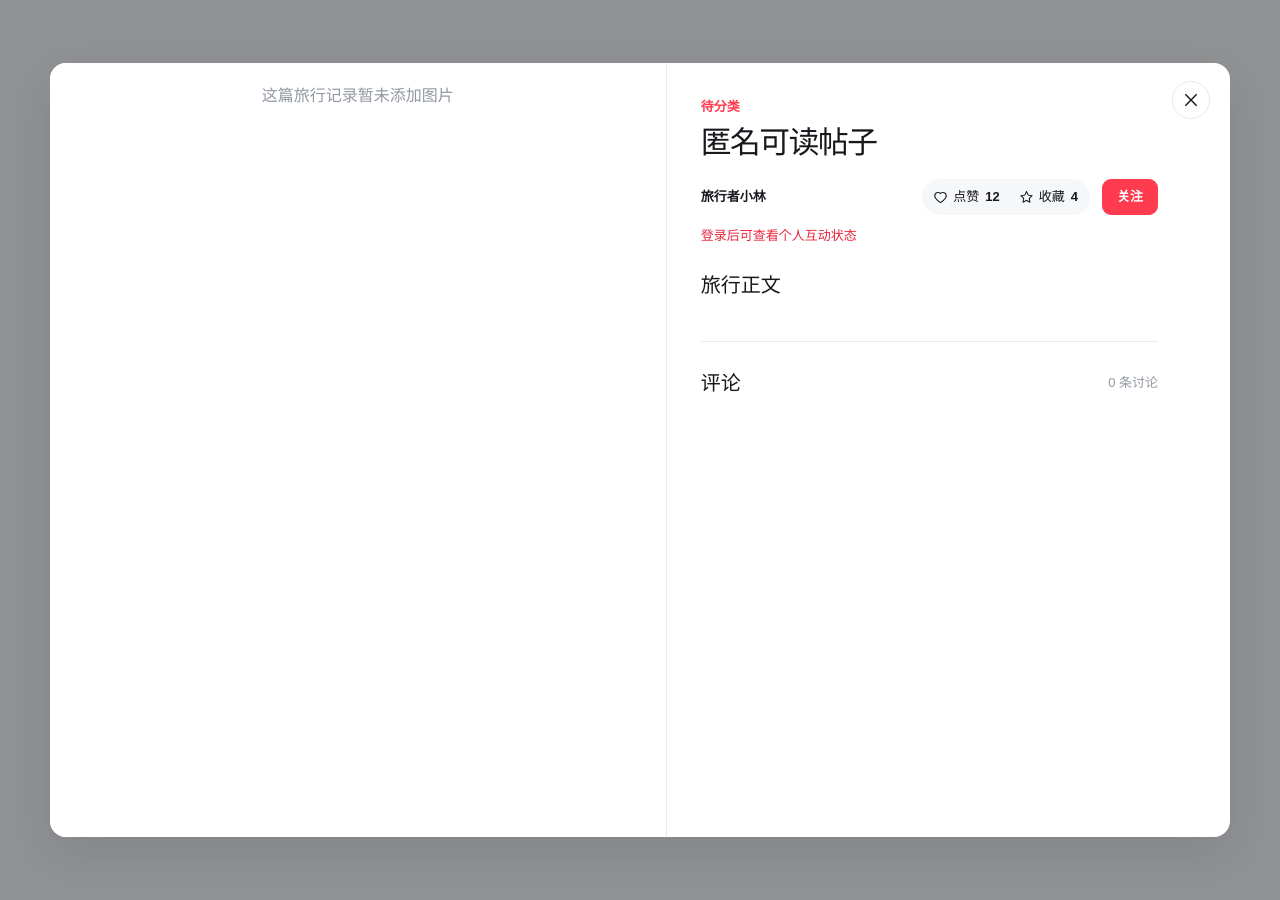
Test: 帖子详情 › 匿名读者触发互动时得到登录提示且不会发送写请求
Click the button with aria-label "点赞": (967, 197) top-left (925, 182), bottom-right (1009, 212)
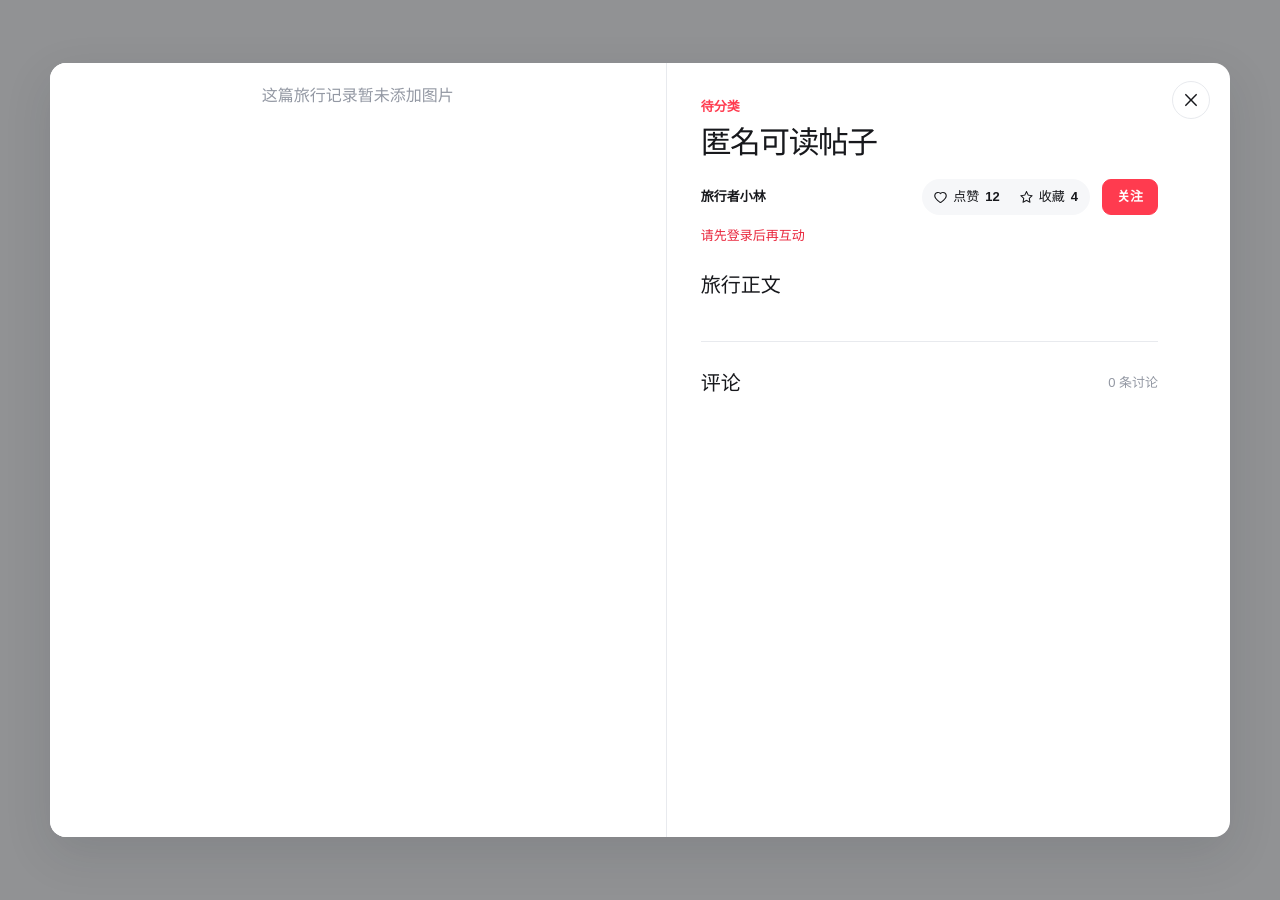
Now the message "请先登录后再互动" is shown, box top-left (701, 228), bottom-right (805, 243)
